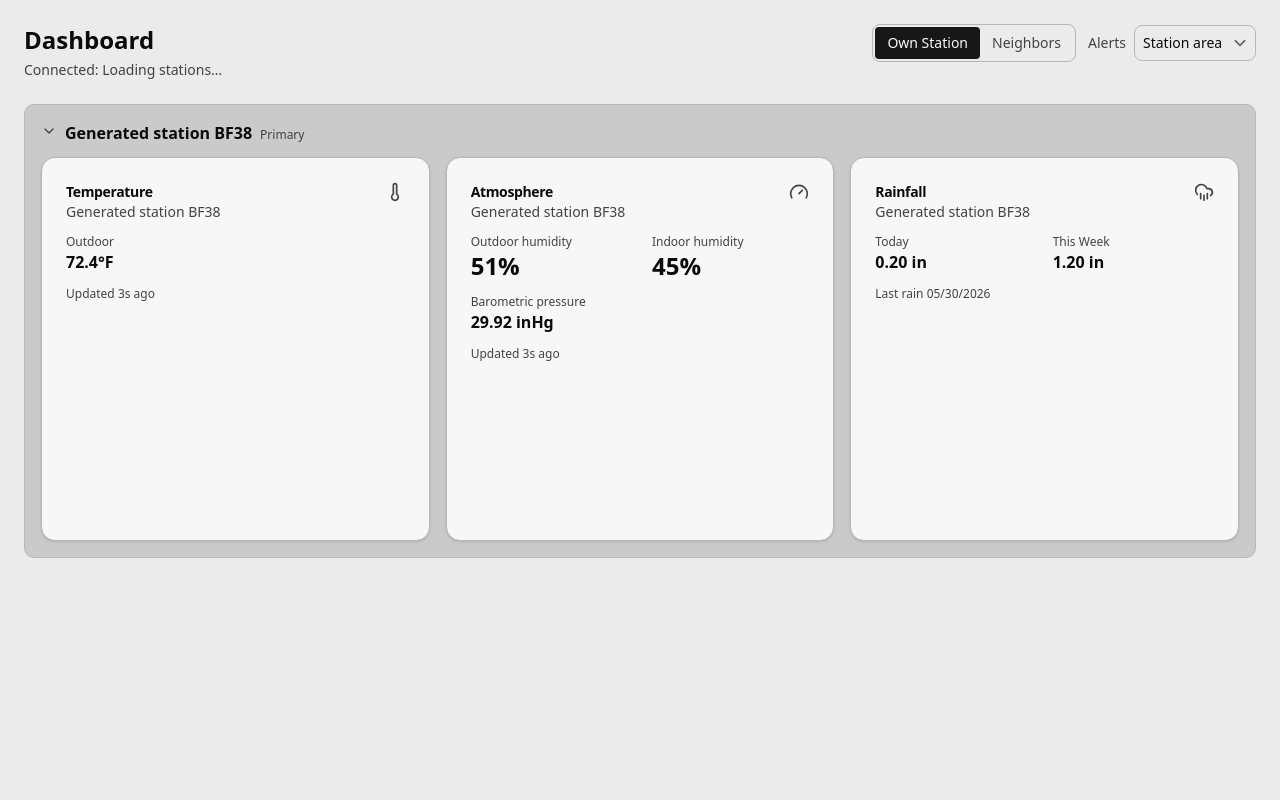
Scenario: DashboardPage › lets users collapse a default station source group without hiding the station heading
The image size is (1280, 800).
Click the heading with test id "dashboard-source-summary".
click(173, 133)  # box [41,122,304,144]
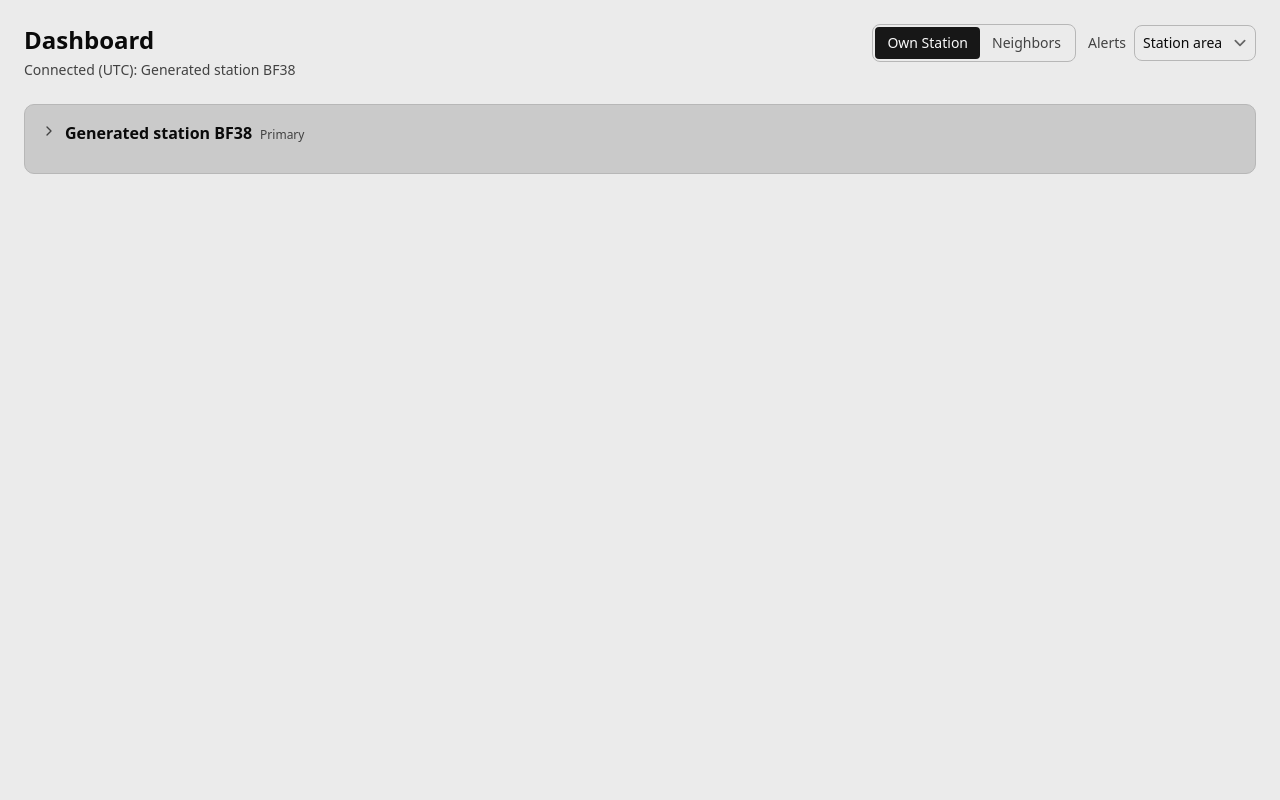
Expected: the heading "Generated station BF38" is shown, [65,121,252,145]
Expected: the heading with test id "dashboard-source-summary" is collapsed, [41,122,304,144]
